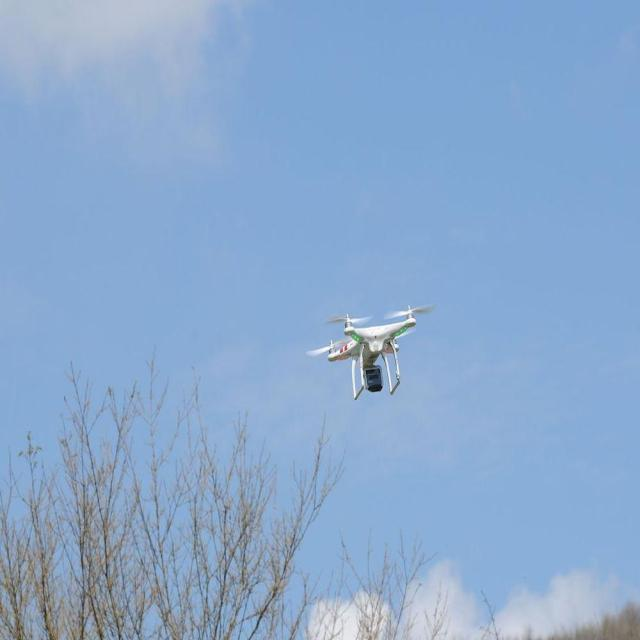drone: (311, 299, 432, 402)
